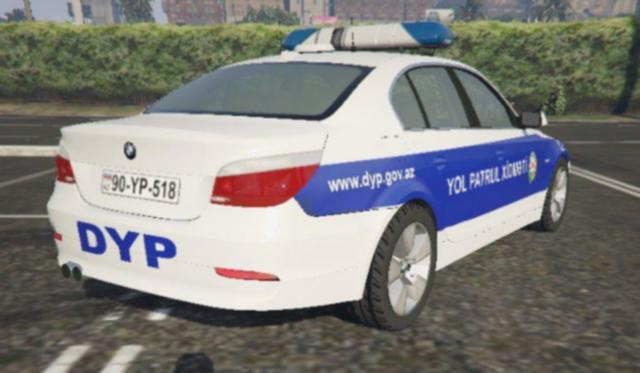police: (53, 18, 568, 312)
